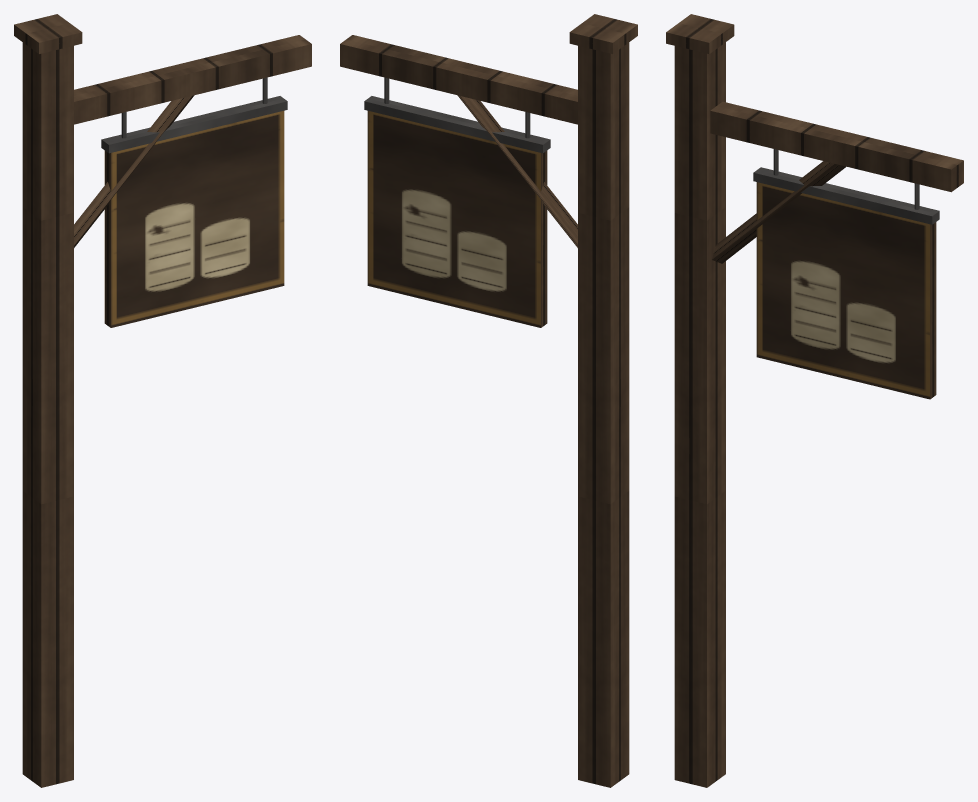
Rendered from Sign_Service_banque.gltf.
3 views of the same model, side by side, from view 1: azimuth 30°, elevation 25°; view 2: azimuth 150°, elevation 25°; view 3: azimuth 330°, elevation 25° (orthographic).
Parts seen in each view (by area): view 1: Sign_Service_banque; view 2: Sign_Service_banque; view 3: Sign_Service_banque.
Part boxes in pixels (left/top/right/bottom): Sign_Service_banque: left=14, top=14, right=311, bottom=787; Sign_Service_banque: left=340, top=14, right=637, bottom=787; Sign_Service_banque: left=666, top=14, right=963, bottom=787.
Bounding box in the file's own units: 1.03 × 2.64 × 0.16.
Materials: 3 (3 with a texture image).
